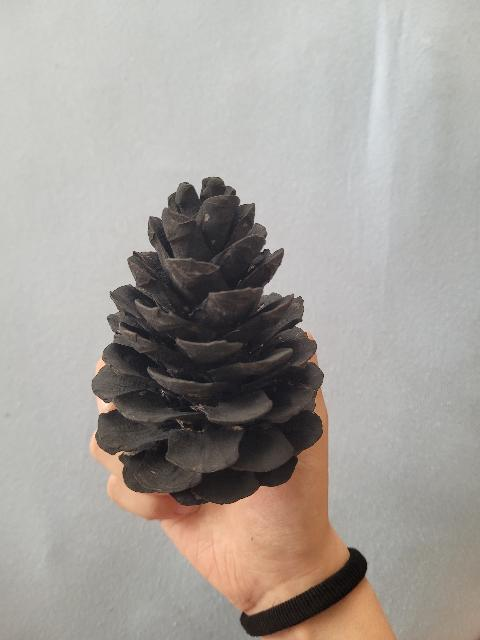Organik: (93, 177, 323, 505)
